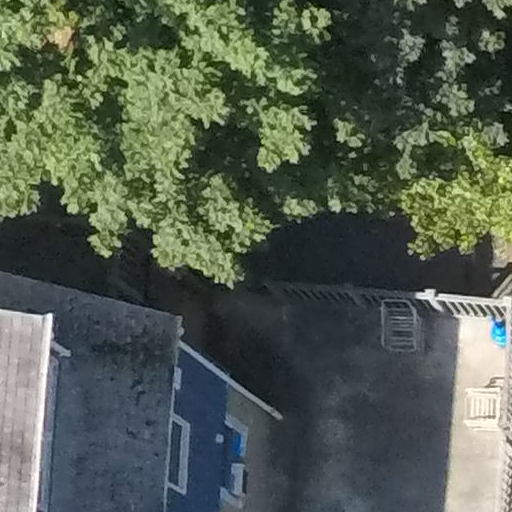porch: (199, 237, 510, 512)
